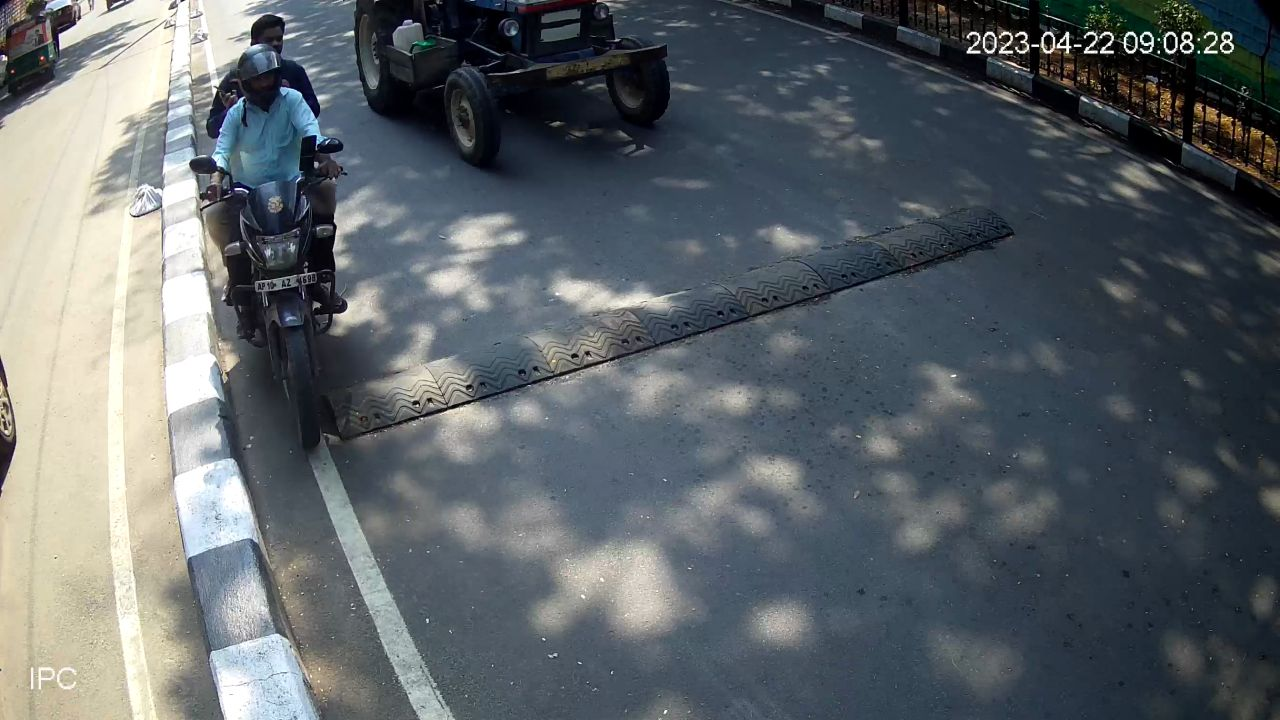license_plate: (249, 267, 324, 298)
